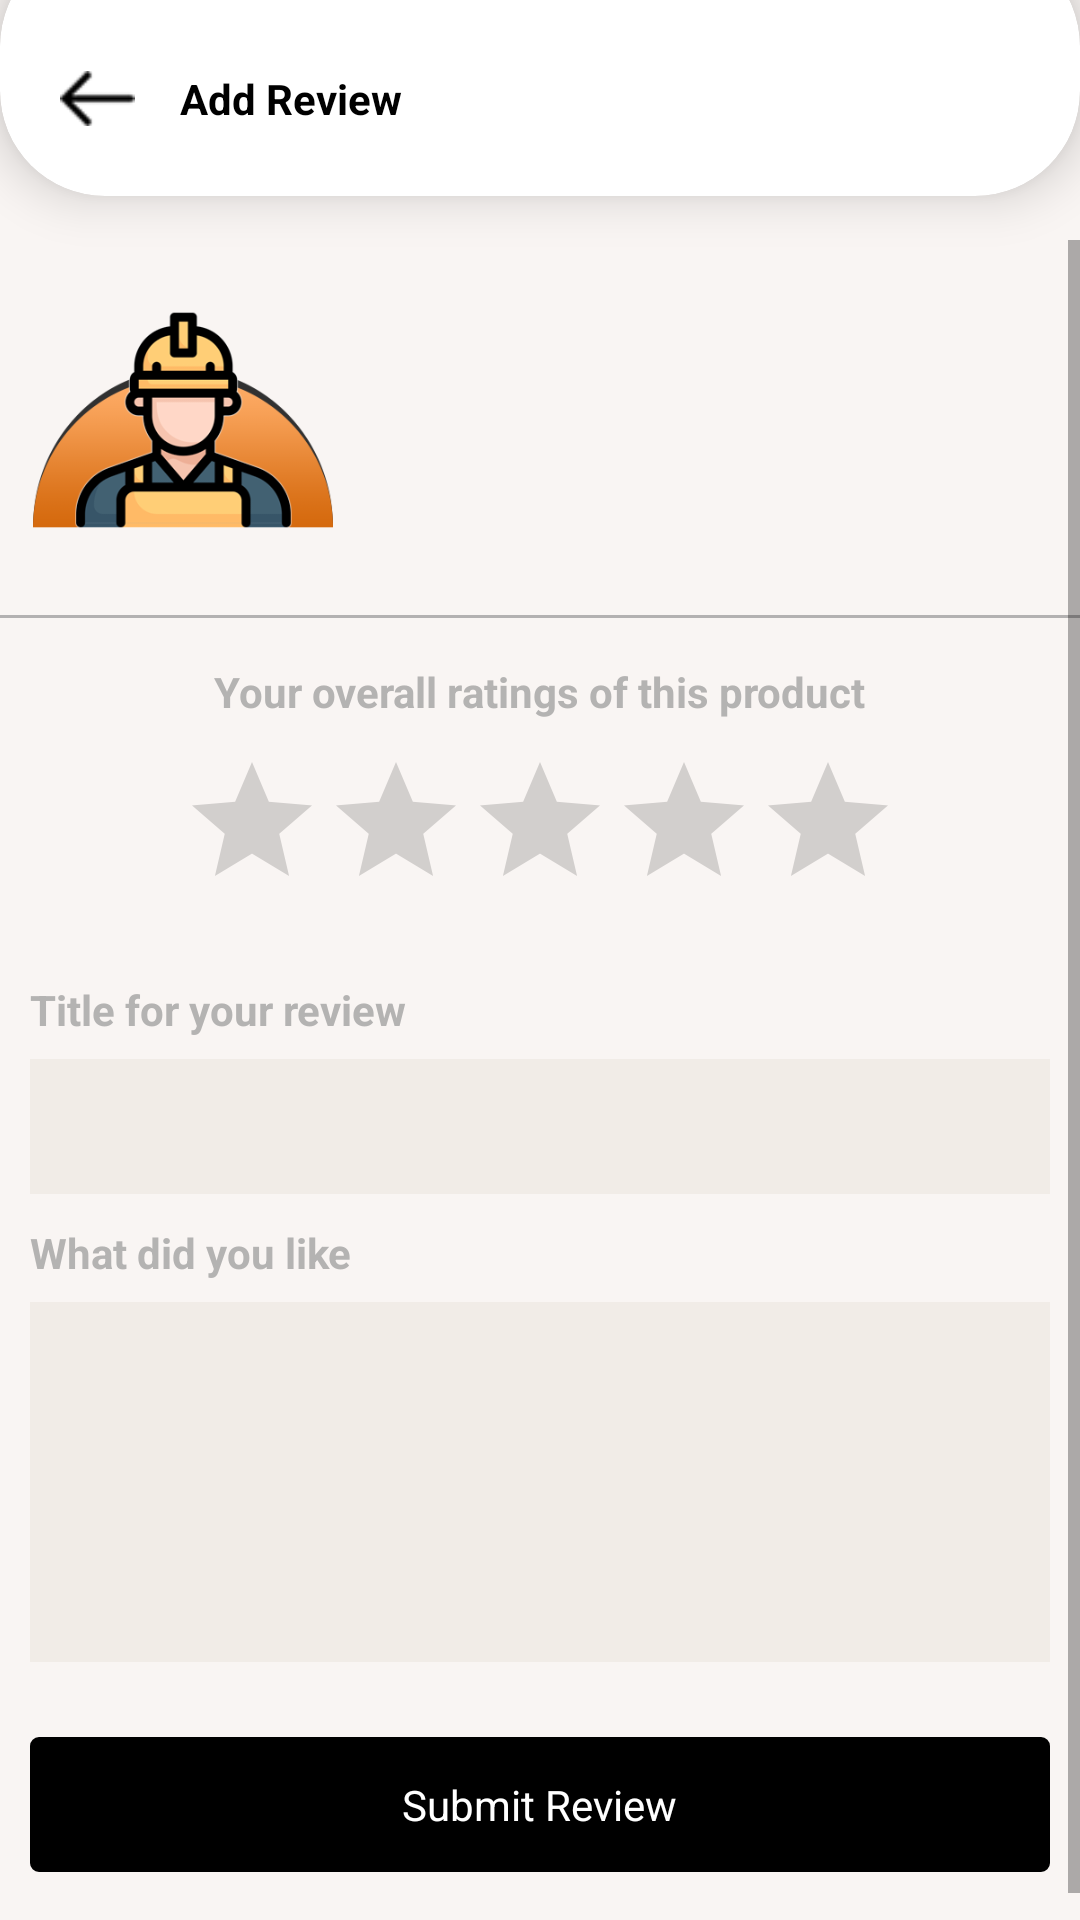

Icon click points for this 1080×1920 phone screenshot, format (x=x, y=y):
back: (x=97, y=98)
